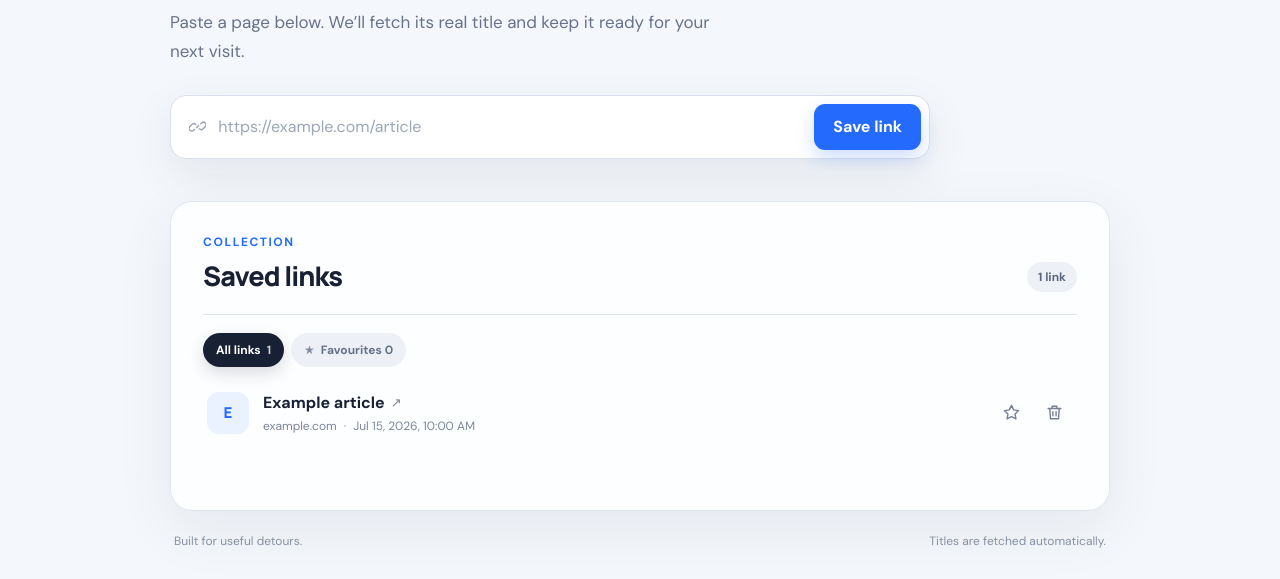
Scenario: App core link flow › confirms deletion before removing a link
(page scrolled)
Expected: the link "Example article ↗" is shown, [263, 392, 402, 413]
Click the button named "Delete Example article" at (1054, 413), box [1035, 394, 1073, 432]
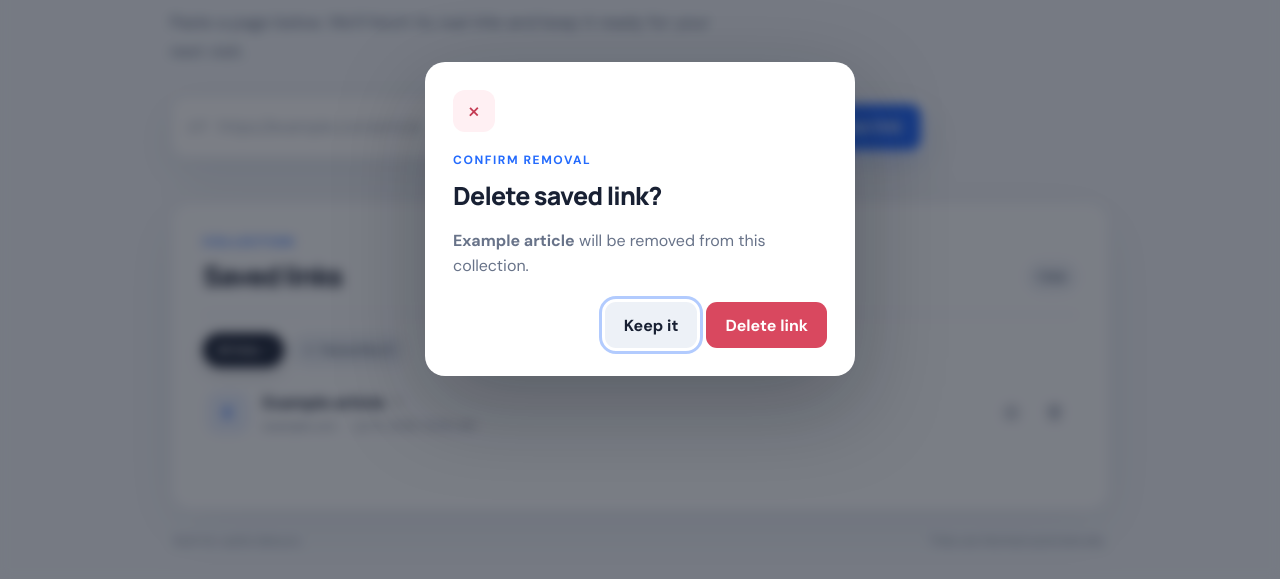
Expected: the dialog "Delete saved link?" is shown, [425, 62, 855, 376]
Click the button "Delete link" at (767, 325), box [706, 302, 827, 348]
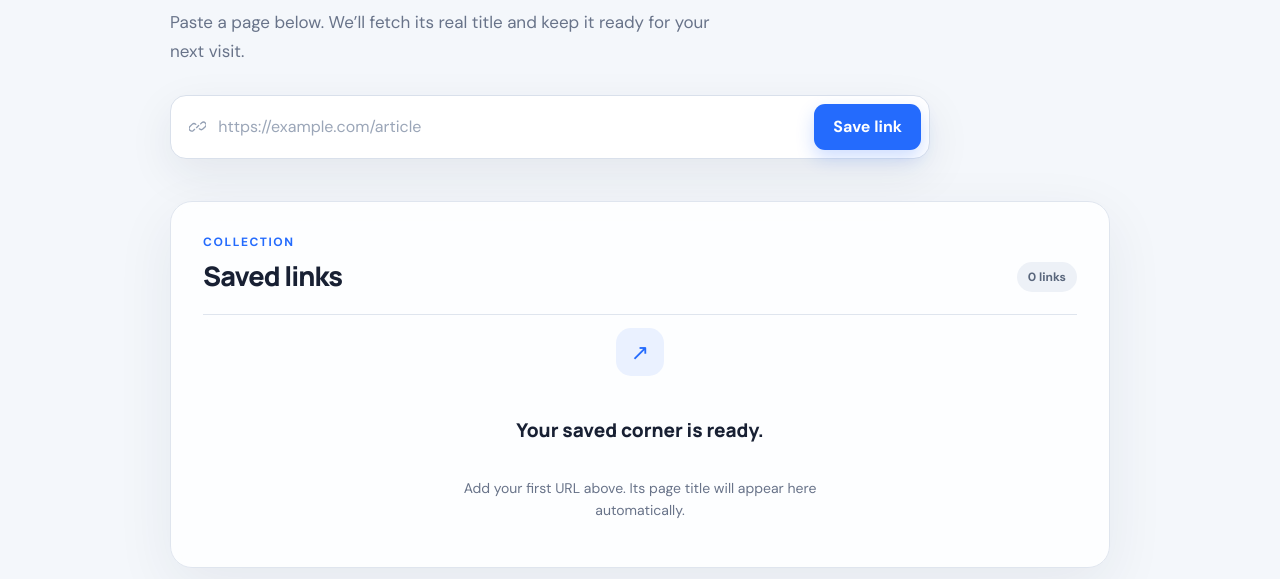
Expected: the link "Example article" is gone
